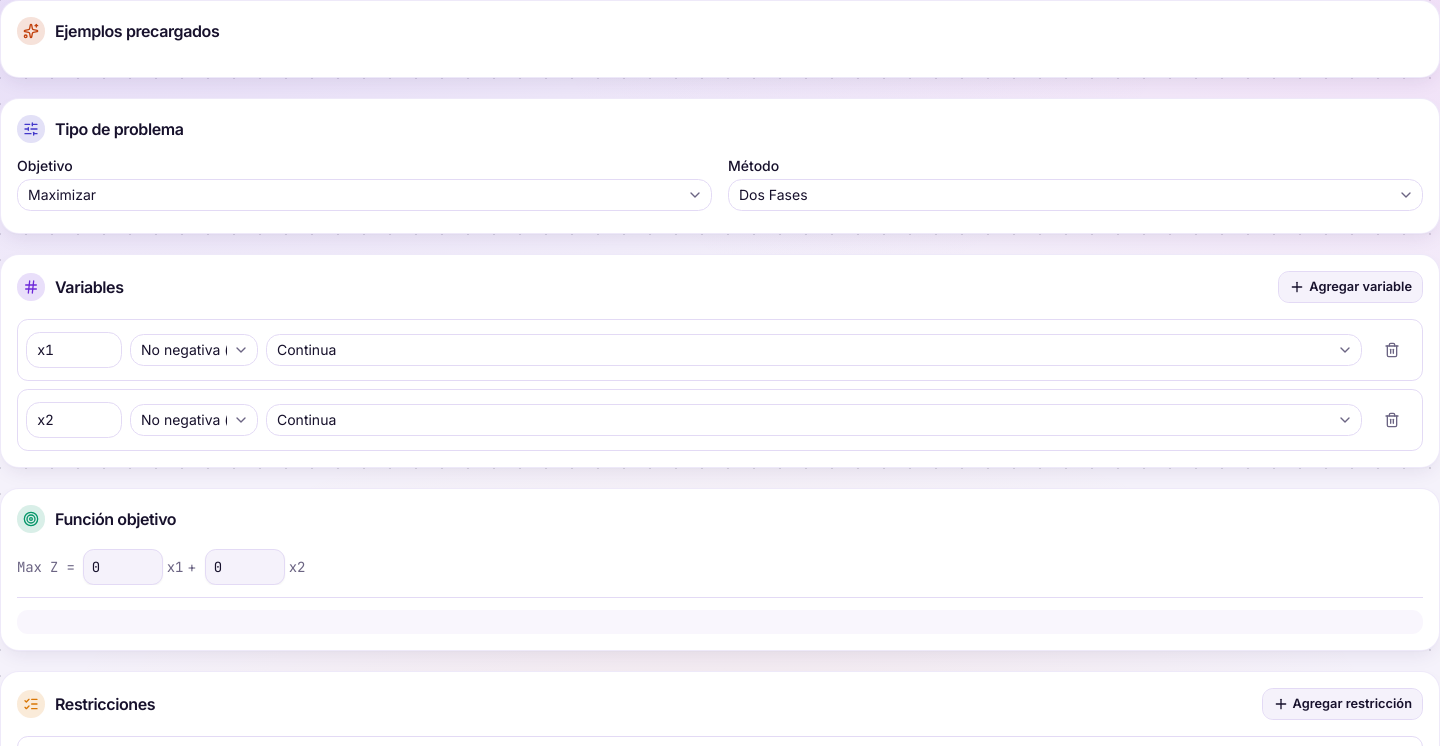
it: ProblemForm dynamic rows › disables removing the last remaining variable
Click the button named "Quitar variable 2" at {"x": 1392, "y": 420}, box [1370, 398, 1414, 442]
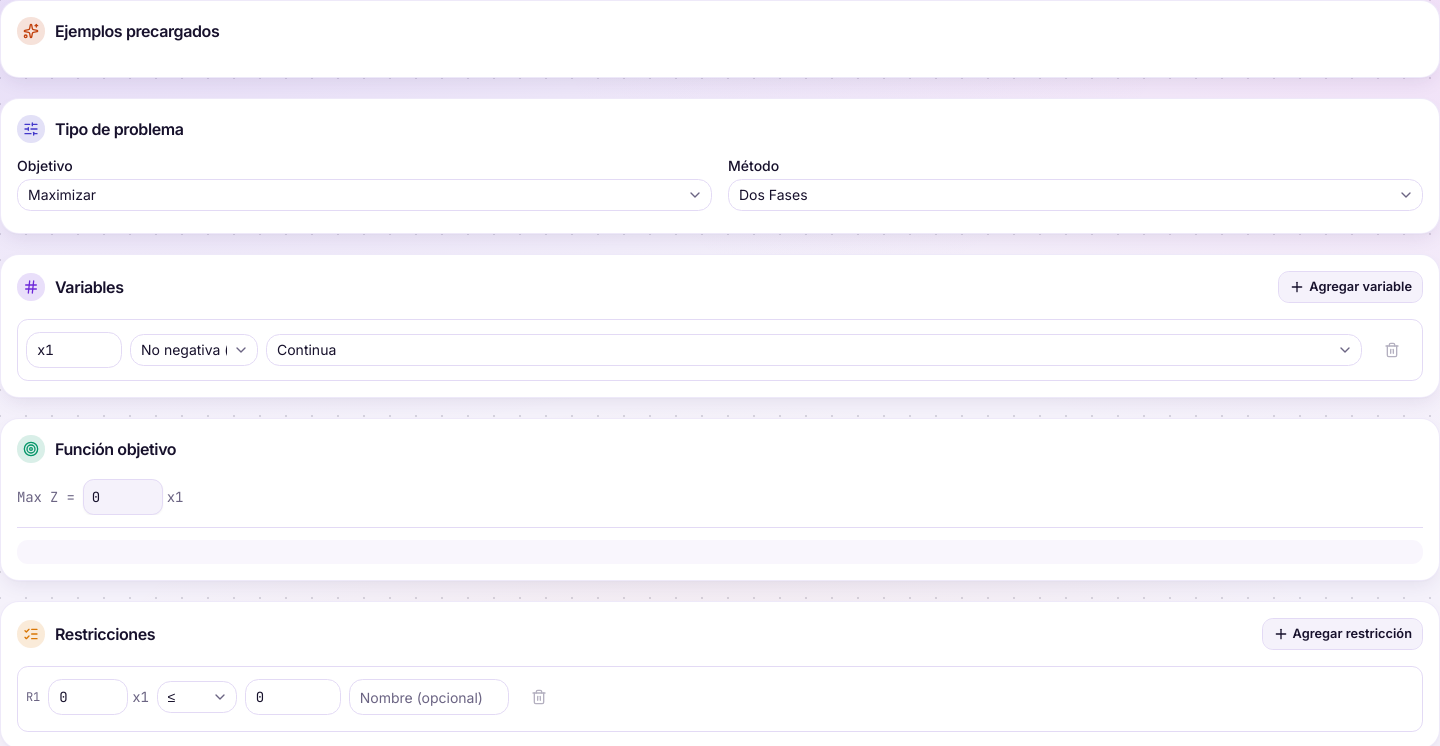
Result: the button named "Quitar variable 1" is disabled at [1370, 328, 1414, 372]
